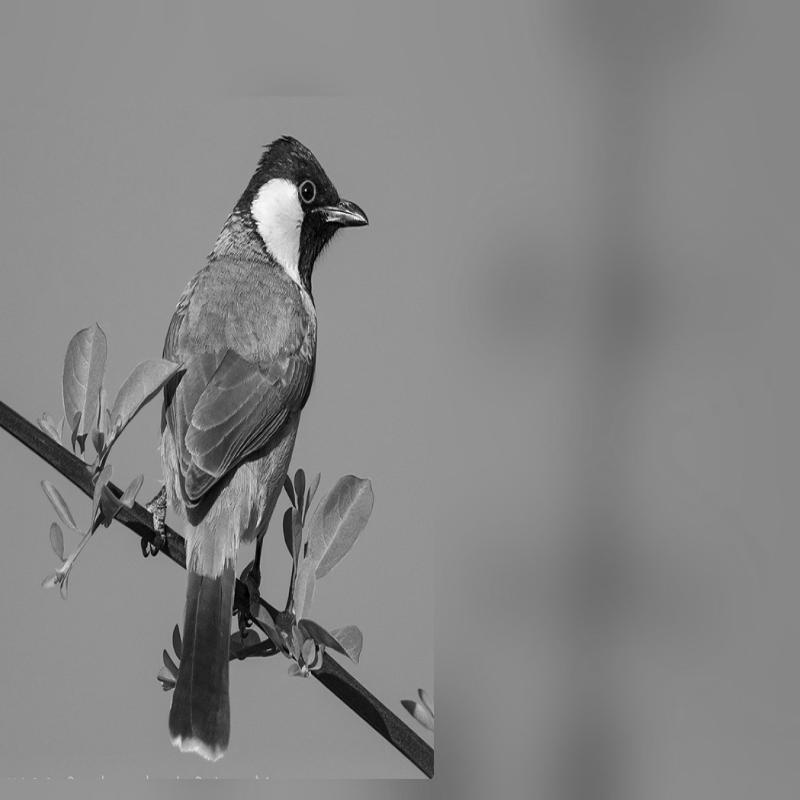white-eared bulbul: (136, 128, 380, 769)
